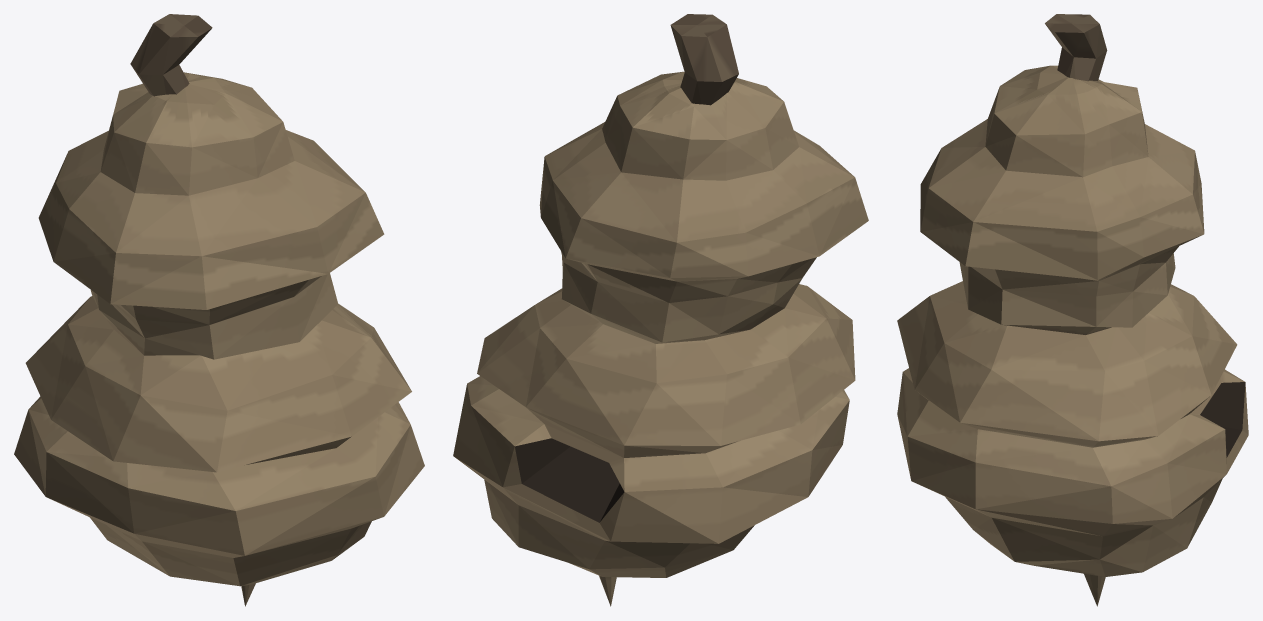
File: beehive2.fbx
3 views of the same model, side by side, from view 1: azimuth 30°, elevation 25°; view 2: azimuth 150°, elevation 25°; view 3: azimuth 270°, elevation 25° (orthographic). The views are drawn at different scales.
Visible parts, largest first — view 1: beehive2; view 2: beehive2; view 3: beehive2.
Part boxes in pixels (bbox=[...]): beehive2: bbox=[14, 14, 424, 606]; beehive2: bbox=[453, 14, 868, 606]; beehive2: bbox=[897, 14, 1248, 606].
Bounding box in the file's own units: 28.09 × 47 × 27.23.
